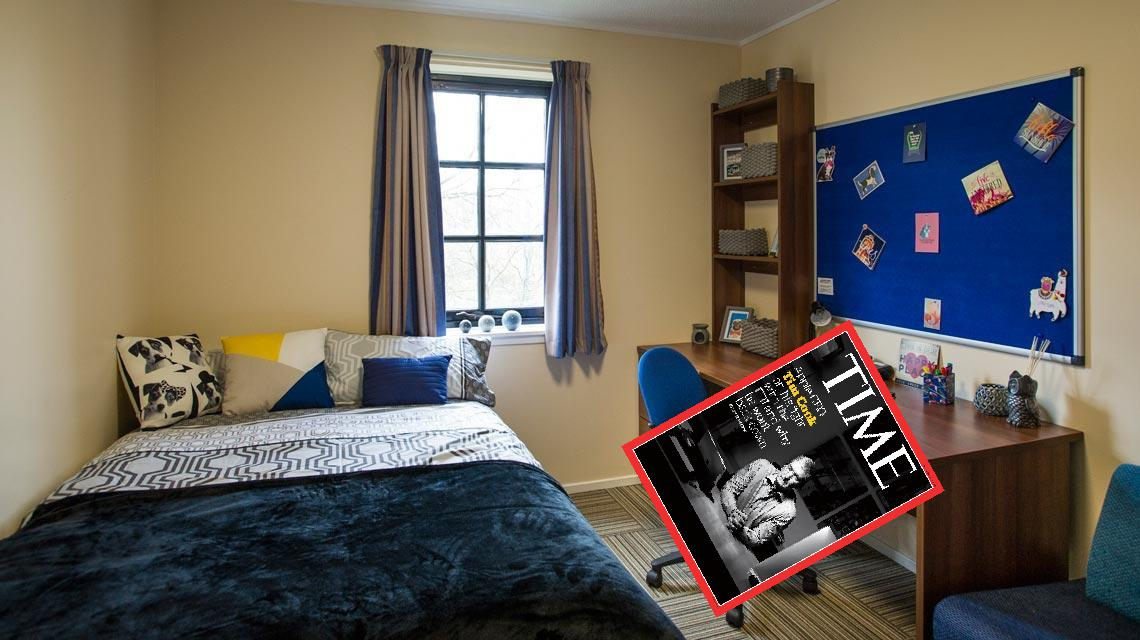times: (614, 317, 954, 621)
